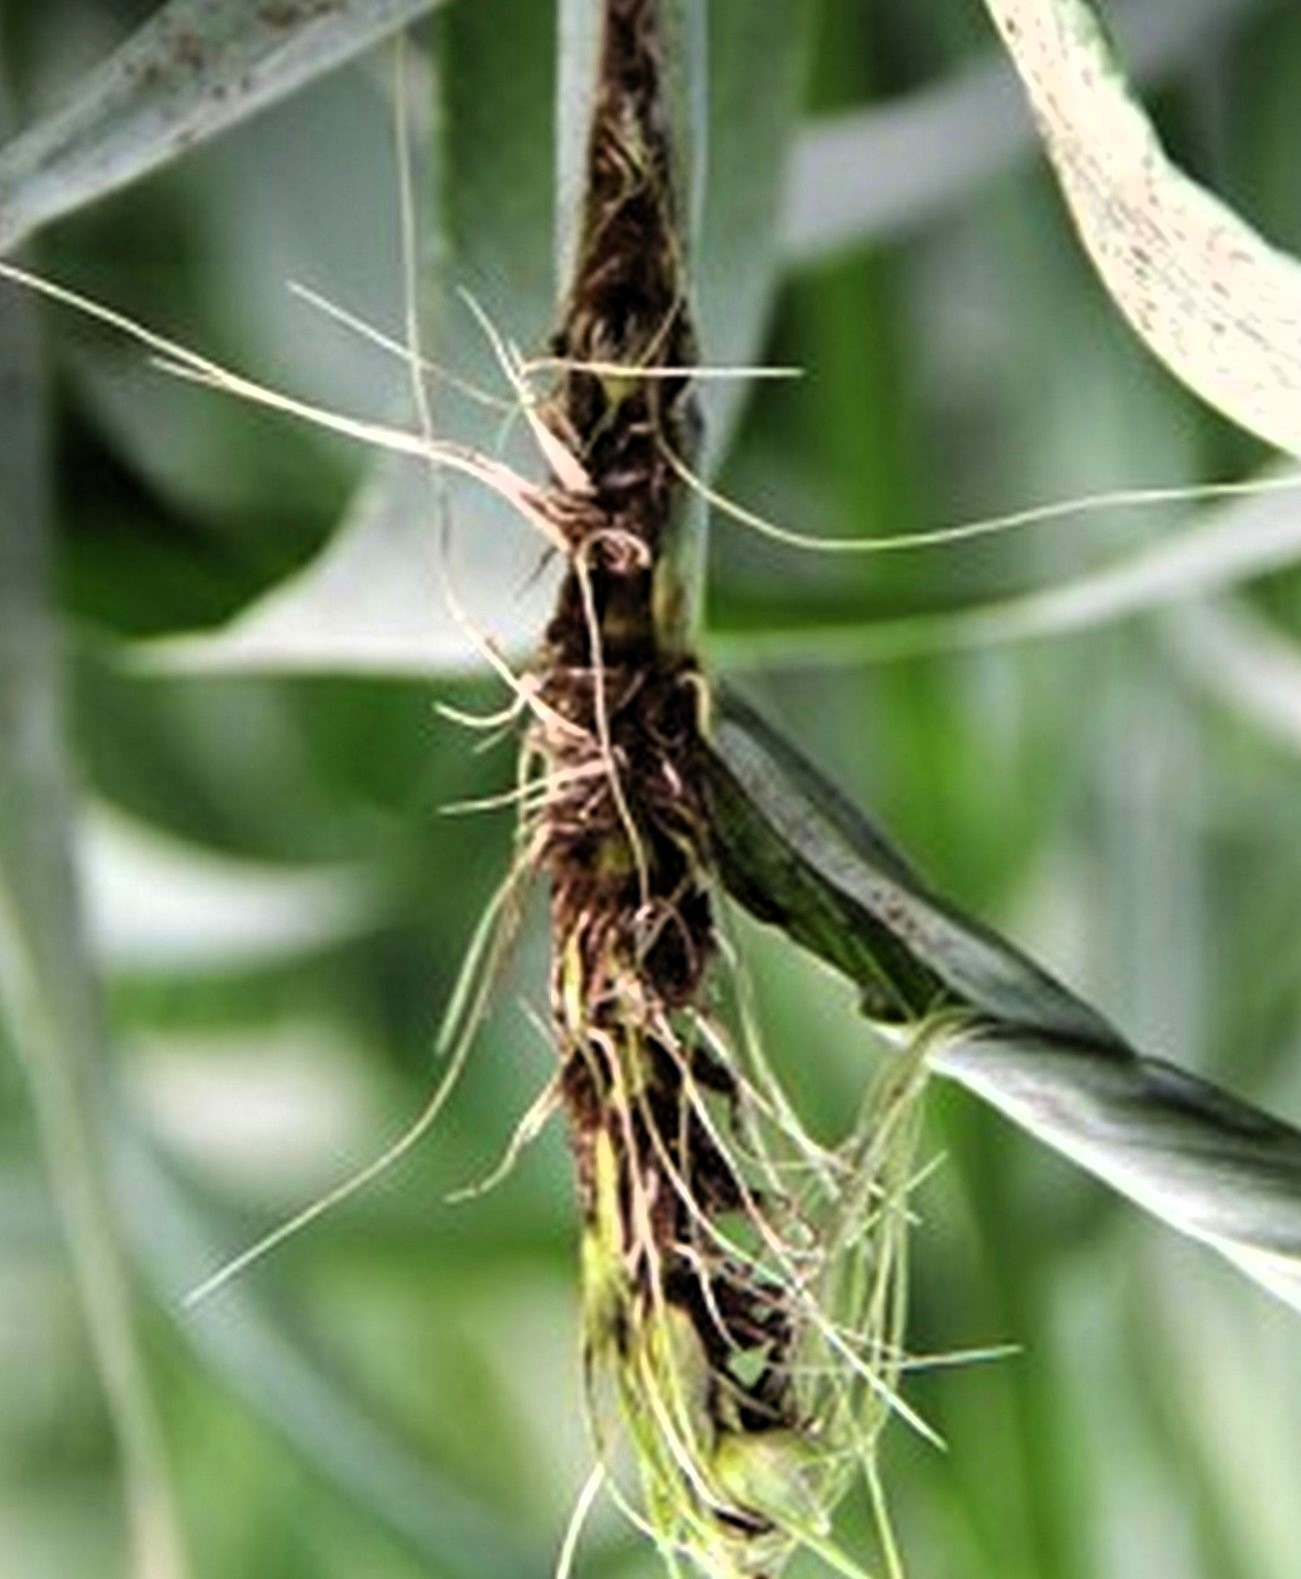Wheat Loose Smut: (384, 265, 959, 1553)
